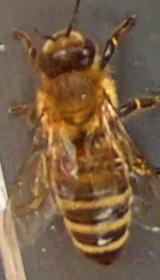varroa_mite: (50, 147, 74, 172)
